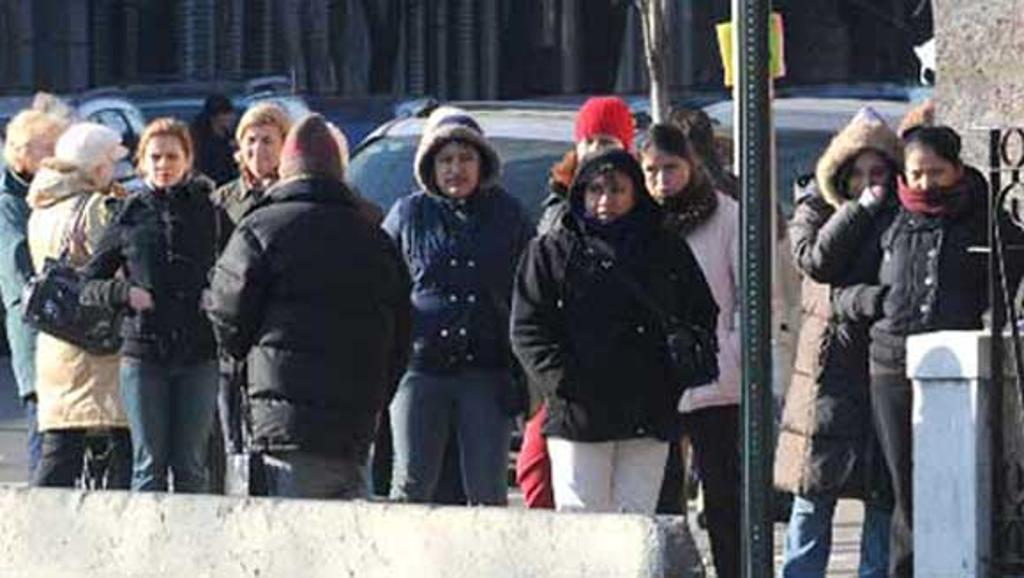face: (904, 145, 957, 200), (640, 150, 689, 206), (433, 140, 480, 196), (584, 171, 633, 223), (846, 150, 891, 198), (145, 135, 184, 187), (242, 124, 281, 176), (29, 139, 56, 174)
